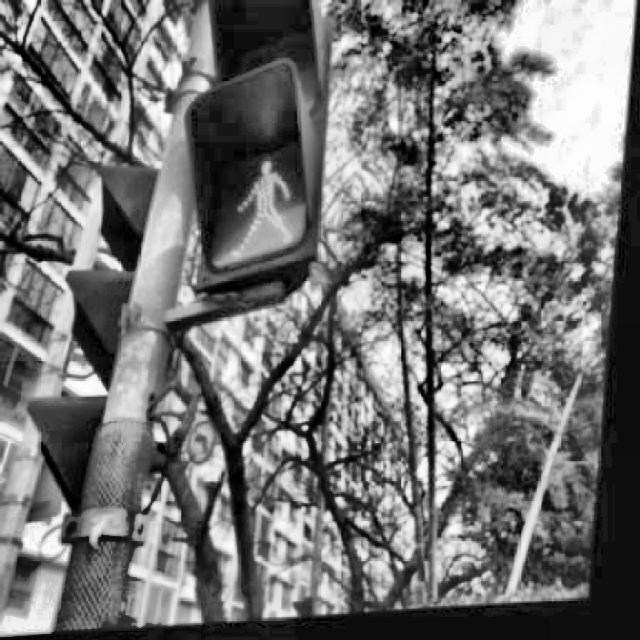semaforo pedestre: (126, 0, 405, 342)
